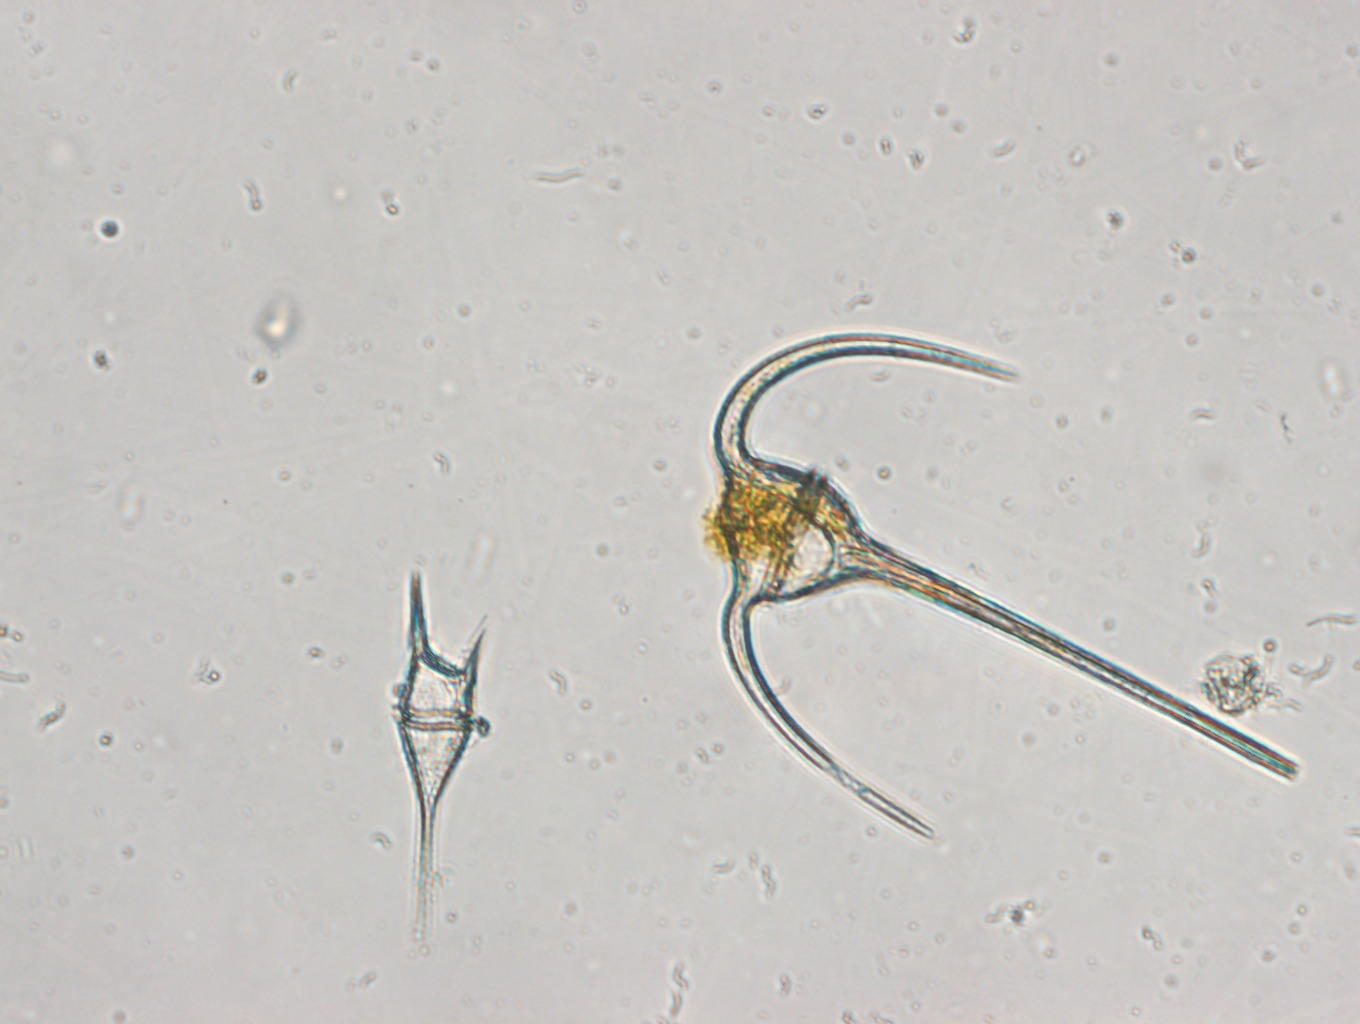ceratium furca: (387, 563, 496, 948)
ceratium trichoceros: (705, 315, 1313, 841)
